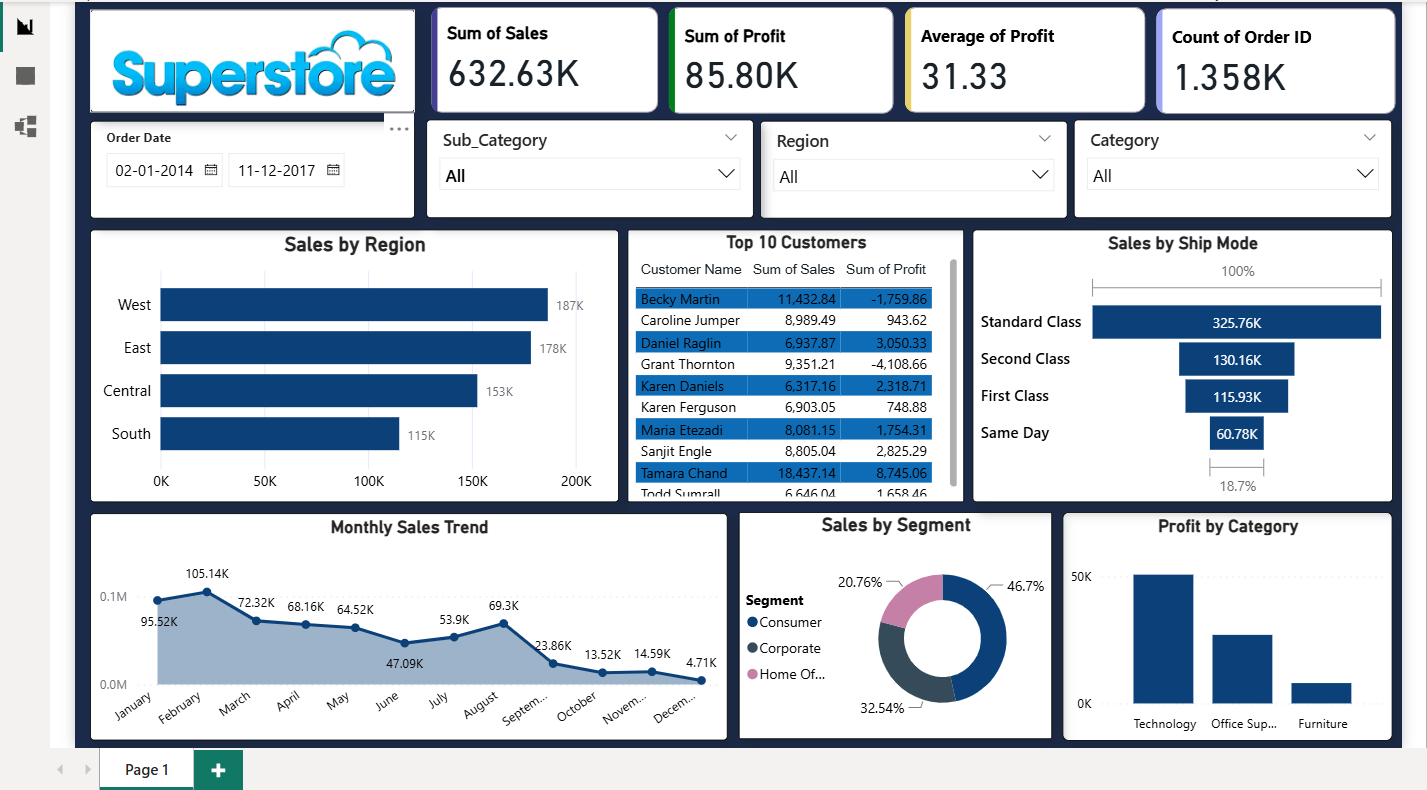

Layout of this report page (visuals, bound fields, positions):
{"tool":"powerbi","page":{"name":"Page 1","canvas":[1280,720],"ordinal":0},"visuals":[{"type":"cardVisual","title":"Total Sales","fields":{"Data":["Sum(superstore_clean.Sales)"]},"box":[338.9,0,229.1,112.2],"z":0},{"type":"cardVisual","title":"Total Profit","fields":{"Data":["Sum(superstore_clean.Profit)"]},"box":[568,0,227.9,113.4],"z":1000},{"type":"cardVisual","title":"Average Profit","fields":{"Data":["Avg(superstore_clean.Profit)"]},"box":[796,0,242.4,112.2],"z":2000},{"type":"cardVisual","title":"Total Orders","fields":{"Data":["Count(superstore_clean.Order ID)"]},"box":[1038.4,1.2,241.2,112.2],"z":3000},{"type":"clusteredBarChart","title":"Sales by Region","fields":{"Category":["superstore_clean.Region"],"Y":["Sum(superstore_clean.Sales)"]},"box":[14.5,219.5,510.2,262.9],"z":4000},{"type":"clusteredColumnChart","title":"Profit by Category","fields":{"Category":["superstore_clean.Category"],"Y":["Sum(superstore_clean.Profit)"]},"box":[952.8,492.1,318.4,220.7],"z":5000},{"type":"areaChart","title":"Monthly Sales Trend","fields":{"Category":["superstore_clean.Order Date.Variation.Date Hierarchy.Month"],"Y":["Sum(superstore_clean.Sales)"]},"box":[14.5,493.3,615.1,219.5],"z":6000},{"type":"donutChart","title":"Sales by Segment","fields":{"Category":["superstore_clean.Segment"],"Y":["Sum(superstore_clean.Sales)"]},"box":[640.4,492.1,302.7,219.5],"z":7000},{"type":"tableEx","title":"Top 10 Customers","fields":{"Values":["superstore_clean.Customer Name","Sum(superstore_clean.Sales)","Sum(superstore_clean.Profit)"]},"box":[533.1,219.5,324.4,262.9],"z":8000},{"type":"slicer","title":"Filter by Year","fields":{"Values":["superstore_clean.Order Date"]},"box":[14.5,114.6,313.6,94.1],"z":9000},{"type":"slicer","fields":{"Values":["superstore_clean.Region"]},"box":[660.9,114.6,296.7,94.1],"z":10000},{"type":"slicer","fields":{"Values":["superstore_clean.Category"]},"box":[963.6,113.4,307.5,95.3],"z":11000},{"type":"funnel","title":"Sales by Ship Mode","fields":{"Category":["superstore_clean.Ship Mode"],"Y":["Sum(superstore_clean.Sales)"]},"box":[865.9,219.5,405.2,262.9],"z":12000},{"type":"image","box":[14.5,7.2,313.6,98.9],"z":13000},{"type":"slicer","fields":{"Values":["superstore_clean.Sub_Category"]},"box":[338.9,113.4,316,95.3],"z":14000}]}

Visuals, with their boxes in screenshot pixels (x1, y1, x2, y2):
"Total Sales" cardVisual: [x1=418, y1=0, x2=657, y2=114]
"Total Profit" cardVisual: [x1=657, y1=0, x2=895, y2=115]
"Average Profit" cardVisual: [x1=896, y1=0, x2=1149, y2=114]
"Total Orders" cardVisual: [x1=1149, y1=0, x2=1401, y2=115]
"Sales by Region" clusteredBarChart: [x1=78, y1=226, x2=612, y2=501]
"Profit by Category" clusteredColumnChart: [x1=1060, y1=511, x2=1393, y2=742]
"Monthly Sales Trend" areaChart: [x1=78, y1=512, x2=722, y2=742]
"Sales by Segment" donutChart: [x1=733, y1=511, x2=1049, y2=740]
"Top 10 Customers" tableEx: [x1=621, y1=226, x2=960, y2=501]
"Filter by Year" slicer: [x1=78, y1=116, x2=406, y2=215]
slicer - superstore_clean.Region: [x1=754, y1=116, x2=1065, y2=215]
slicer - superstore_clean.Category: [x1=1071, y1=115, x2=1392, y2=215]
"Sales by Ship Mode" funnel: [x1=969, y1=226, x2=1392, y2=501]
image: [x1=78, y1=4, x2=406, y2=107]
slicer - superstore_clean.Sub_Category: [x1=418, y1=115, x2=748, y2=215]
